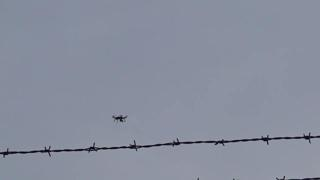UAV: (111, 115, 129, 123)
